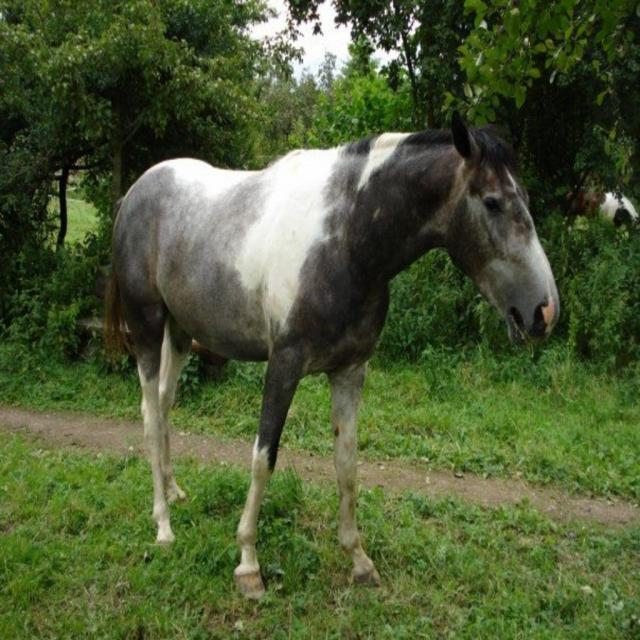Horse: (98, 106, 560, 598)
